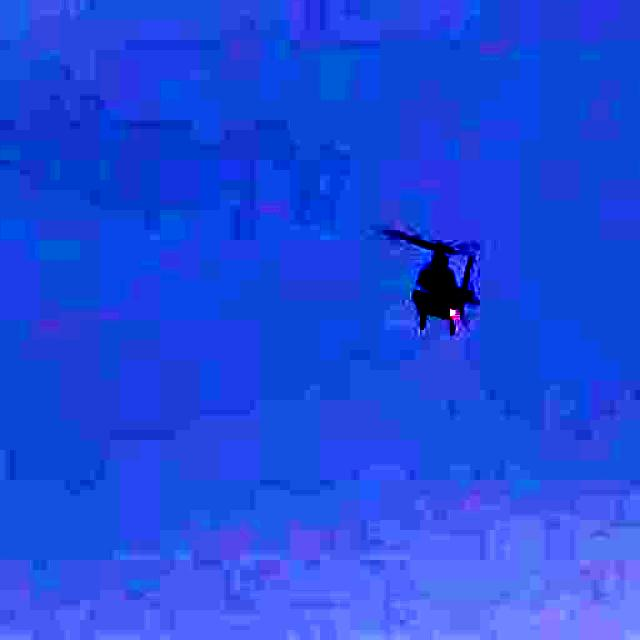drone: (341, 195, 538, 358)
